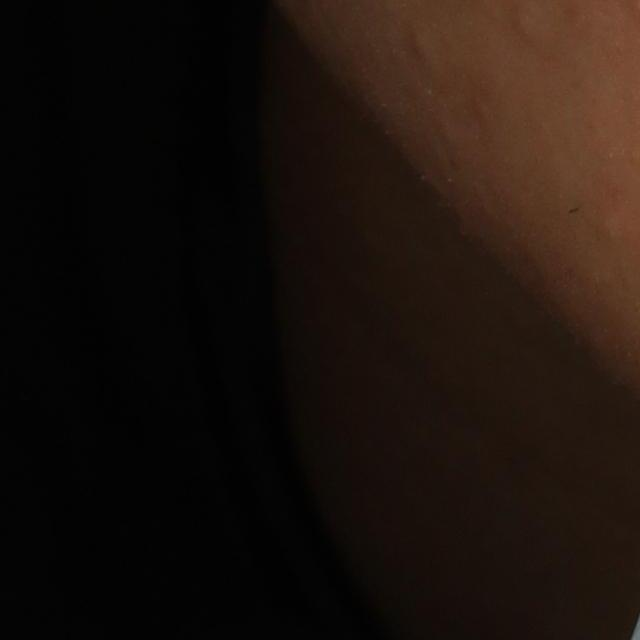comedo: (509, 11, 542, 44), (410, 30, 435, 67)
